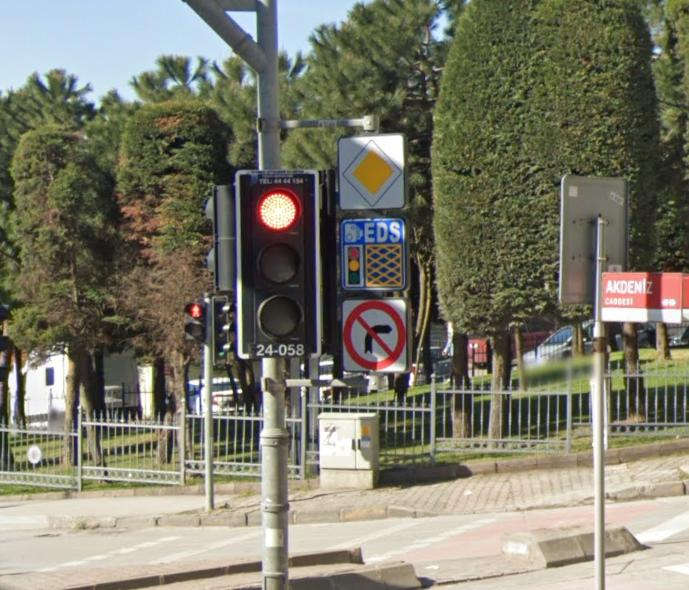redlight: (237, 170, 315, 353)
rightturnsareforbidden: (343, 301, 404, 371)
